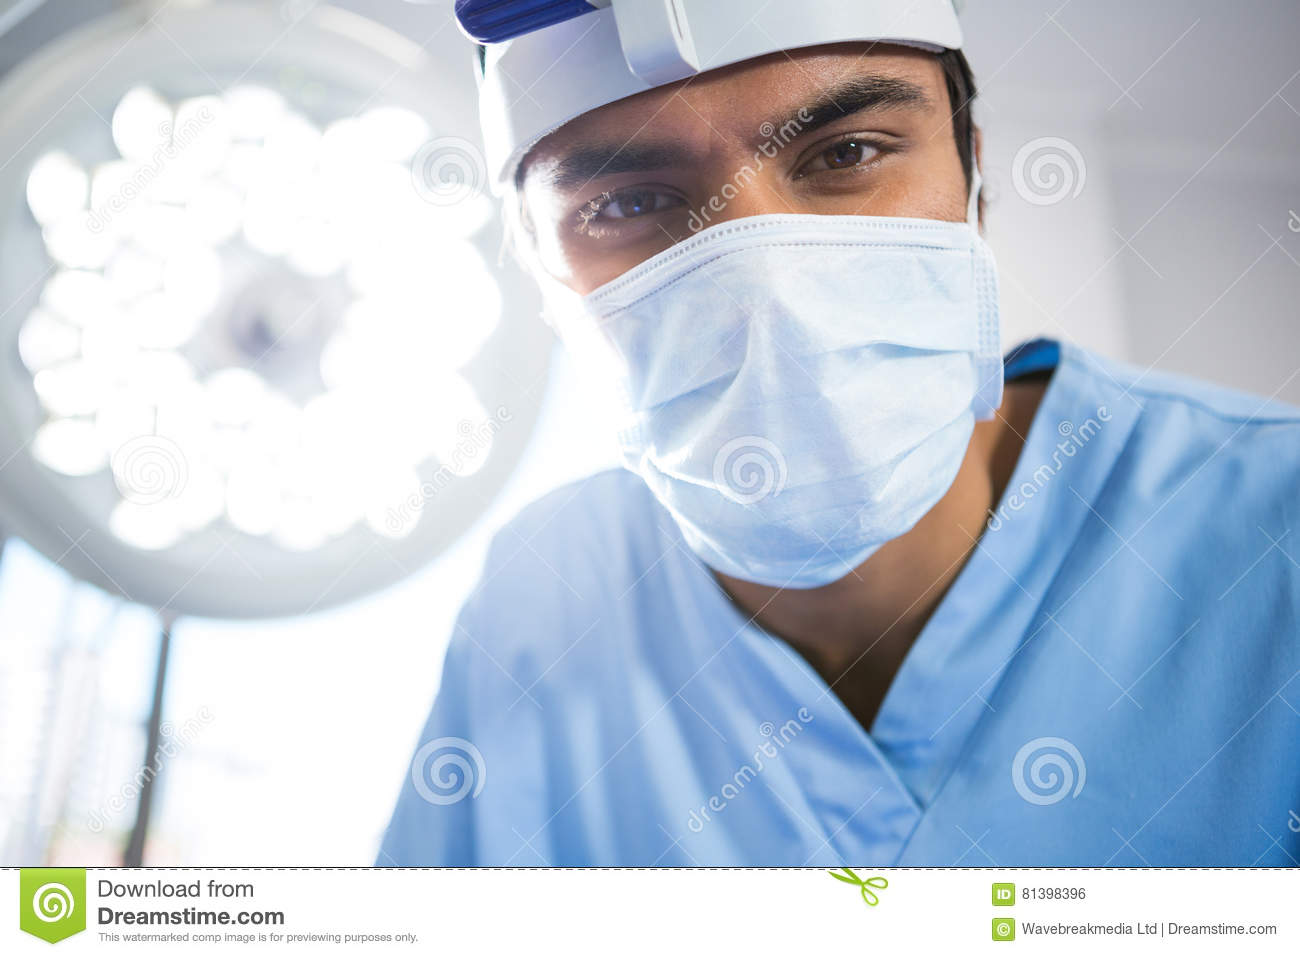mask: (554, 251, 1013, 583)
